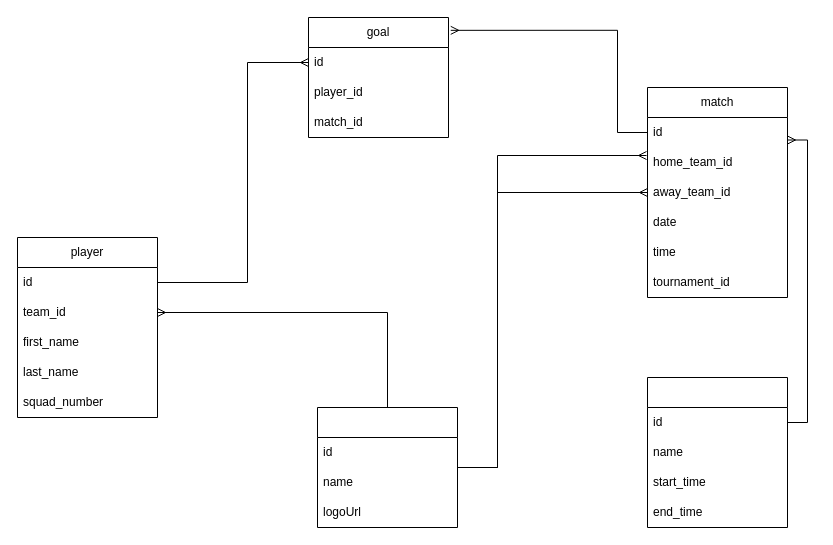
This 833x545 diagram has some shape labels left out. The box of each missing label's shape, as (x1, y1, x2, y2) in pixels:
team: (316, 406, 458, 528)
tournament: (646, 376, 788, 528)
